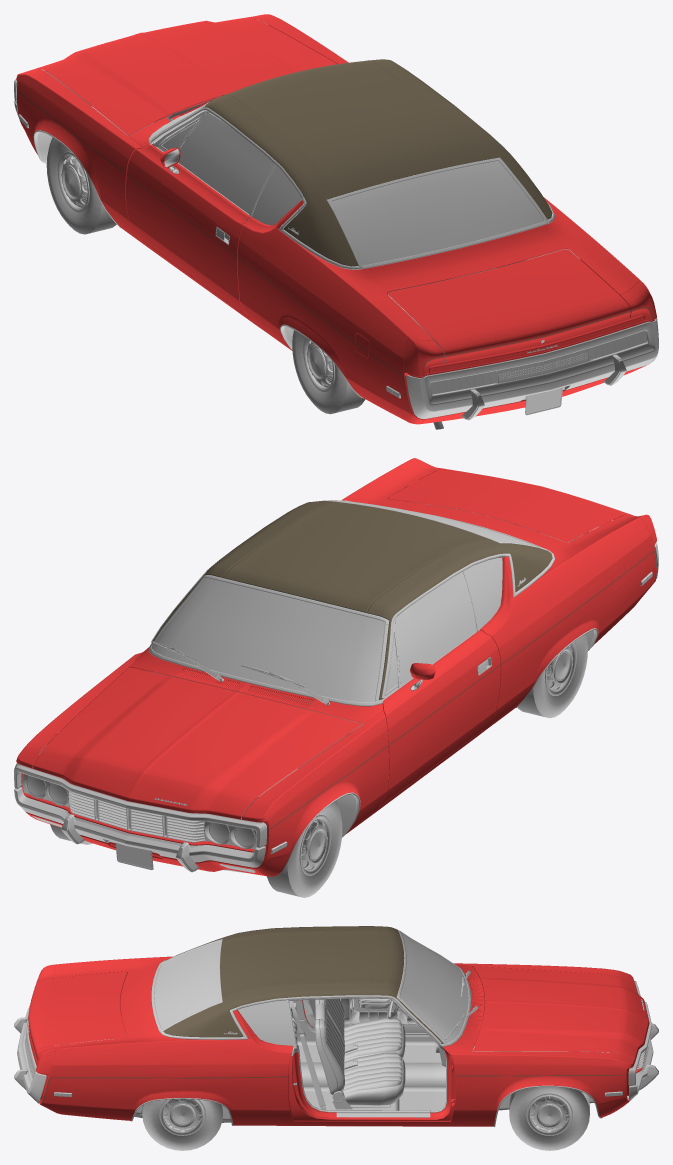
Rendered from 钥匙场景.fbx.
3 views of the same model, one above another, from view 1: azimuth 30°, elevation 25°; view 2: azimuth 150°, elevation 25°; view 3: azimuth 270°, elevation 25° (orthographic). The views are drawn at different scales.
Parts seen in each view (by area): view 1: Kar_lak, Kar_vrf, Kar_skl, Kar_chr, DLP_lak, DLP_skl, KLP_tex, KLZ_tex, Kar_gum, DLP_chr, KLP_alu, KLZ_alu (+1 smaller); view 2: Kar_lak, Kar_vrf, Kar_skl, Kar_chr, DLP_lak, DLP_skl, Kar_alu, KLP_tex, Kar_gum, KLZ_tex, KLP_alu, KLZ_alu; view 3: Kar_lak, Kar_vrf, Kar_skl, Kar_inv, Kar_chr, Kar_kob, KPP_tex, KPZ_tex, DLP_inv, Kar_gum, KPP_alu, KPZ_alu (+4 smaller).
Part boxes in pixels (box(x1,y1,x2,y2)): Kar_lak: box(16, 14, 656, 424); Kar_vrf: box(17, 59, 653, 413); Kar_skl: box(18, 107, 646, 397); Kar_chr: box(14, 20, 658, 419); DLP_lak: box(126, 145, 251, 315); DLP_skl: box(162, 113, 274, 215); KLP_tex: box(46, 137, 116, 234); KLZ_tex: box(292, 330, 365, 414); Kar_gum: box(37, 21, 626, 429); DLP_chr: box(152, 110, 229, 244); KLP_alu: box(57, 151, 89, 212); KLZ_alu: box(303, 337, 334, 391); Kar_lak: box(16, 458, 656, 876); Kar_vrf: box(151, 500, 656, 829); Kar_skl: box(27, 500, 652, 872); Kar_chr: box(14, 500, 658, 877); DLP_lak: box(379, 630, 500, 806); DLP_skl: box(386, 572, 477, 692); Kar_alu: box(68, 504, 652, 851); KLP_tex: box(267, 801, 342, 897); Kar_gum: box(22, 630, 594, 873); KLZ_tex: box(517, 634, 587, 718); KLP_alu: box(299, 815, 331, 875); KLZ_alu: box(545, 641, 576, 695); Kar_lak: box(28, 956, 649, 1126); Kar_vrf: box(28, 926, 626, 1102); Kar_skl: box(28, 931, 622, 1096); Kar_inv: box(259, 999, 472, 1112); Kar_chr: box(15, 930, 657, 1126); Kar_kob: box(297, 1040, 445, 1110); KPP_tex: box(509, 1087, 589, 1150); KPZ_tex: box(142, 1099, 222, 1150); DLP_inv: box(303, 998, 425, 1033); Kar_gum: box(14, 977, 658, 1122); KPP_alu: box(526, 1093, 572, 1135); KPZ_alu: box(159, 1099, 205, 1135).
Bounding box in the file's own units: 1934 × 1381 × 5269.
